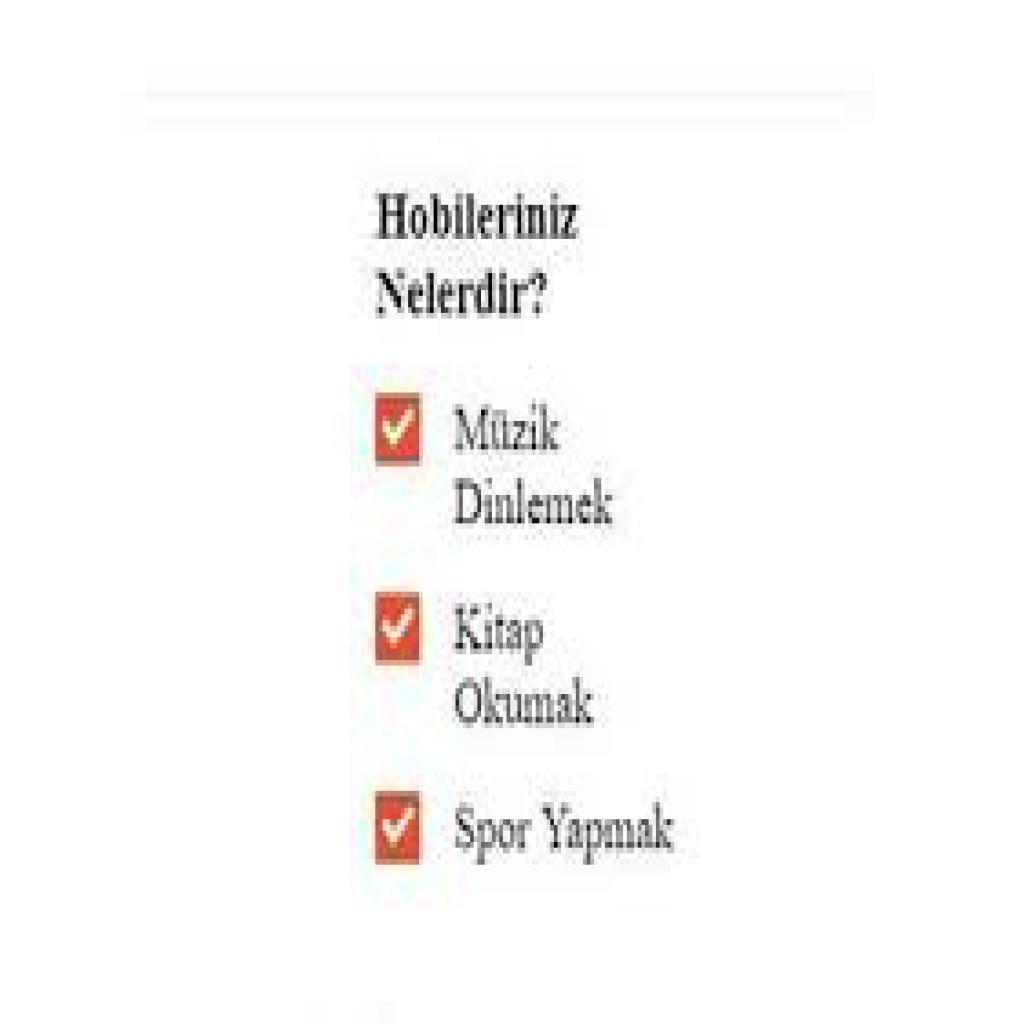checkbox: (374, 790, 426, 863), (375, 590, 424, 661), (375, 397, 425, 463)
label: (367, 186, 588, 333), (453, 400, 634, 542), (452, 593, 600, 736), (445, 795, 680, 866)
